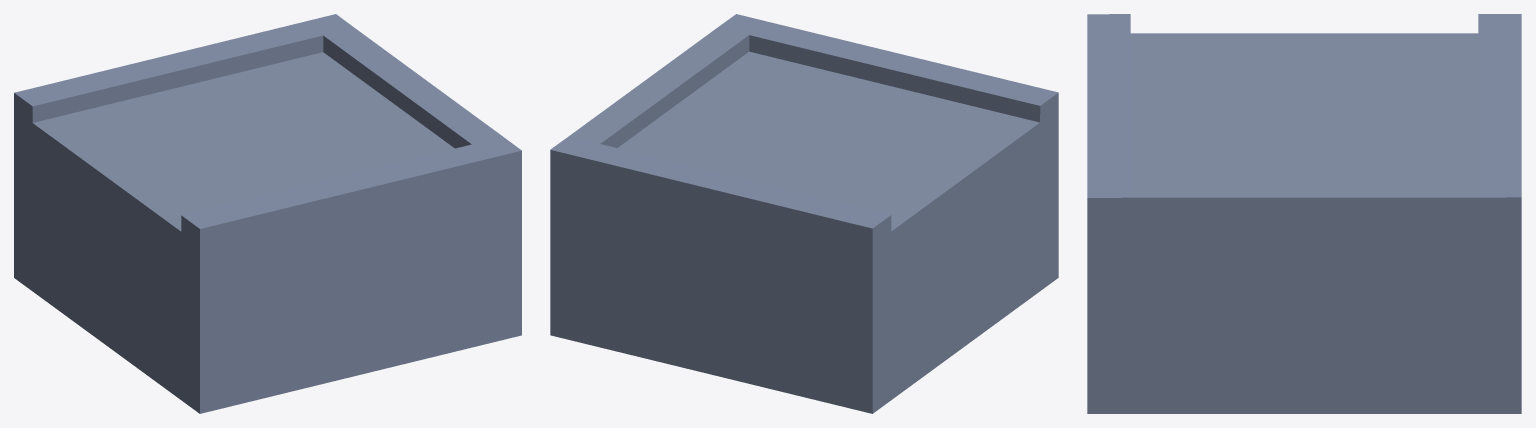
File: ThreeWallCubeyBoy.fbx
3 views of the same model, side by side, from view 1: azimuth 30°, elevation 25°; view 2: azimuth 150°, elevation 25°; view 3: azimuth 270°, elevation 25° (orthographic). The views are drawn at different scales.
Parts seen in each view (by area): view 1: Cube.113; view 2: Cube.113; view 3: Cube.113.
Boxes of the visible parts, box(x1,y1,x2,y2) form: Cube.113: box(14, 14, 521, 413); Cube.113: box(550, 14, 1058, 413); Cube.113: box(1087, 14, 1521, 413).
Size of the model in its own units: 200 by 110 by 200.
